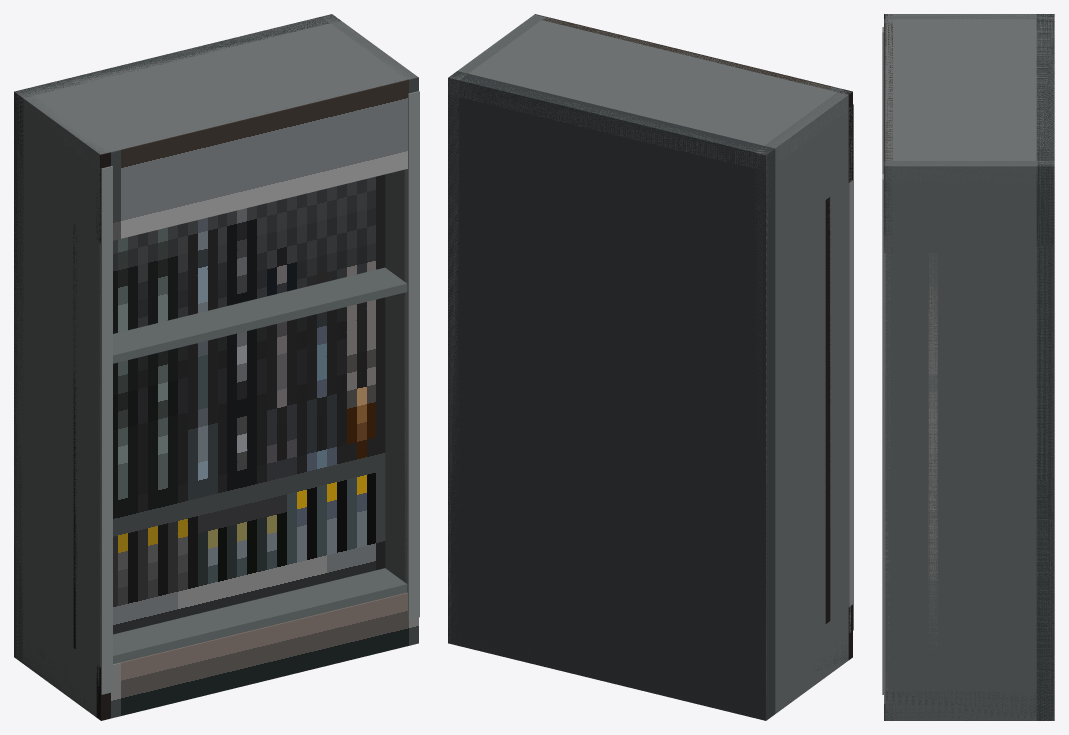
The model's file is CMU3DReduxAU14UPPAirCrewWeaponsVendor.glb.
3 renders of one model, left to right at view 1: azimuth 30°, elevation 25°; view 2: azimuth 150°, elevation 25°; view 3: azimuth 270°, elevation 25°, orthographic.
Parts seen in each view (by area): view 1: source cabinet panel 2, left casing, source cabinet panel 0, closed roof, source cabinet panel 1, source cabinet panel 3, front upright (×2), right casing, shelf tray 2, shelf tray 1, closed cabinet back; view 2: closed cabinet back, left casing, closed roof, right casing, front upright, source cabinet panel 0, source cabinet panel 2, closed plinth and underside, source cabinet panel 1; view 3: right casing, closed roof, closed cabinet back, source cabinet panel 2, front upright, closed plinth and underside, source cabinet panel 0, source cabinet panel 1, left casing.
Boxes of the visible parts, x1,y1,x2,y2 form: source cabinet panel 2: (73,297,385,648); left casing: (14,90,108,717); source cabinet panel 0: (96,77,418,243); closed roof: (16,14,417,170); source cabinet panel 1: (73,174,385,347); source cabinet panel 3: (96,592,418,720); front upright (×2): (97,91,419,694); right casing: (322,14,417,582); shelf tray 2: (113,568,407,664); shelf tray 1: (113,267,407,363); closed cabinet back: (14,14,340,663); closed cabinet back: (448,71,775,720); left casing: (755,89,851,719); closed roof: (448,15,849,171); right casing: (448,14,545,643); front upright: (849,104,853,632); source cabinet panel 0: (532,14,852,182); source cabinet panel 2: (825,321,830,623); closed plinth and underside: (448,617,848,720); source cabinet panel 1: (825,197,830,323); right casing: (885,161,1054,720); closed roof: (885,14,1054,182); closed cabinet back: (1036,14,1054,720); source cabinet panel 2: (928,374,937,659); front upright: (882,174,890,694); closed plinth and underside: (885,691,1054,720); source cabinet panel 0: (884,14,892,252); source cabinet panel 1: (928,253,937,374); left casing: (885,14,1054,19).
Bounding box in the file's own units: 1 × 1.7 × 0.478.
10 materials, 4 textured.
